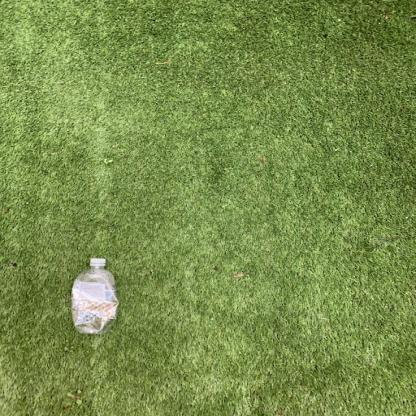trash: (70, 258, 124, 338)
